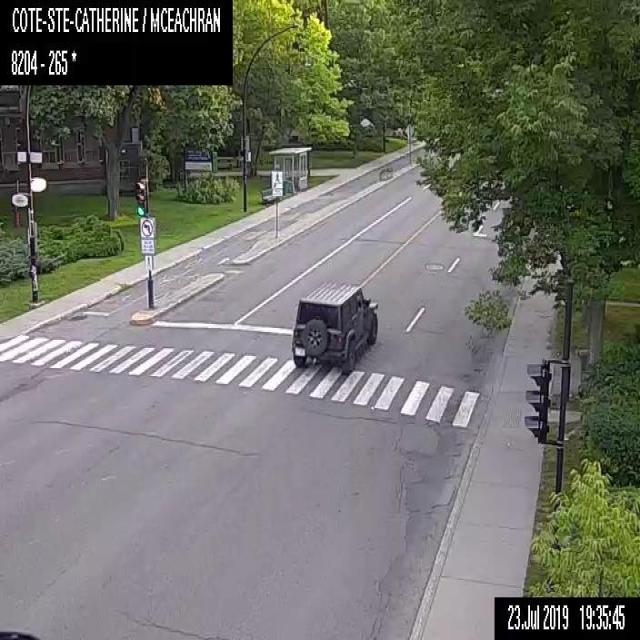vehicle: (291, 278, 378, 374)
